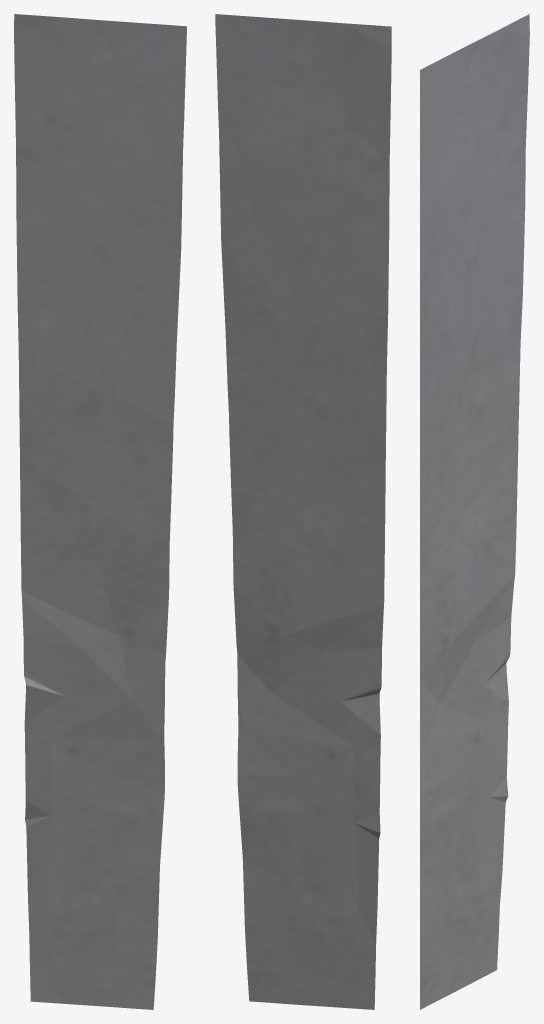
3 renders of one model, left to right at view 1: azimuth 30°, elevation 25°; view 2: azimuth 210°, elevation 25°; view 3: azimuth 270°, elevation 25°, orthographic. The views are drawn at different scales.
Bounding box in the file's own units: 0.2101 × 1.67 × 0.1743.
Materials: 1 (1 with a texture image).
